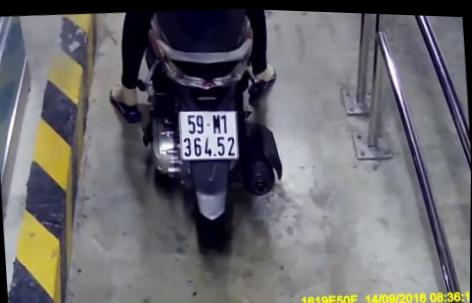LP: (177, 105, 241, 161)
